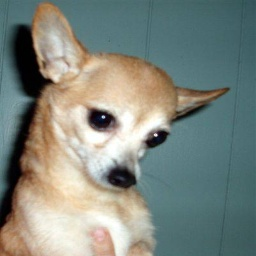dog: (6, 3, 224, 256)
